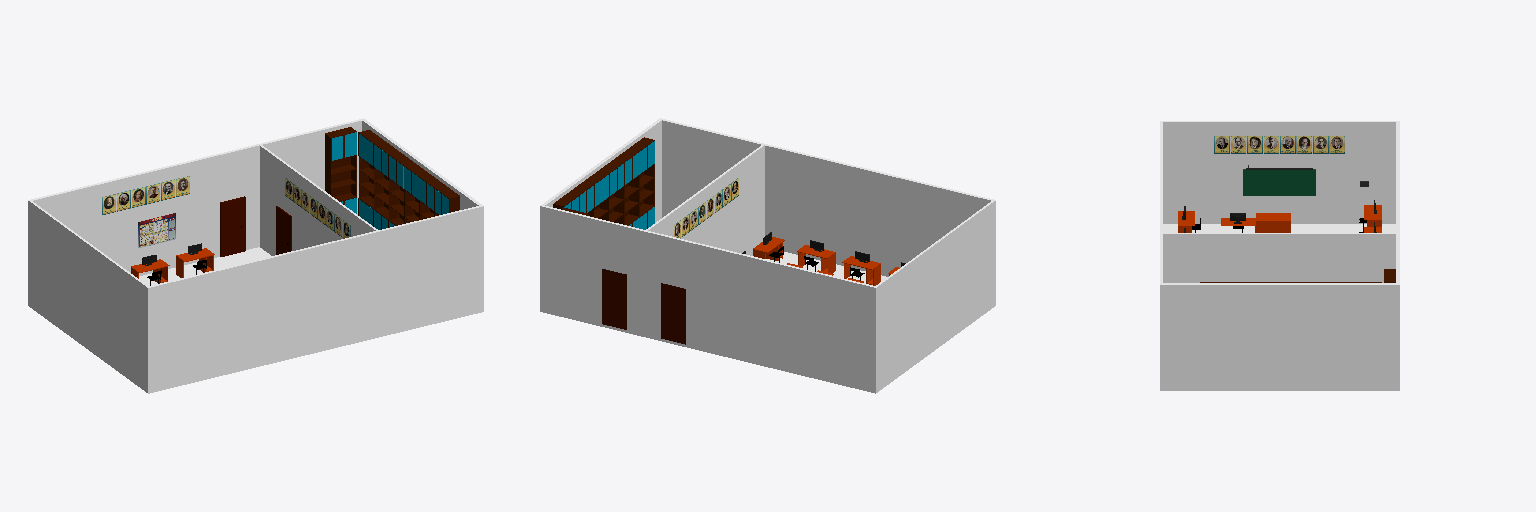
The picture shows the model from 3 angles: view 1: azimuth 30°, elevation 25°; view 2: azimuth 150°, elevation 25°; view 3: azimuth 270°, elevation 25°; orthographic projection.
Visible parts, largest first — view 1: Cube, Cube.010, Cube.018, Plane.003, Cube.009, Cube.006, Plane.002, Plane, Cube.011; view 2: Cube, Cube.010, Cube.008, Cube.009, Cube.007, Plane.002, Cube.003; view 3: Cube, Plane.001, Cube.013, Cube.014, Cube.006.
Part boxes in pixels (x1,y1,x2,y2): Cube: (28,118,483,393); Cube.010: (358,130,459,229); Cube.018: (325,127,356,213); Plane.003: (102,176,189,215); Cube.009: (220,196,245,256); Cube.006: (131,243,214,285); Plane.002: (285,178,350,238); Plane: (138,213,175,247); Cube.011: (276,206,291,254); Cube: (540,118,995,393); Cube.010: (553,137,654,229); Cube.008: (797,240,905,285); Cube.009: (661,283,685,344); Cube.007: (602,269,626,329); Plane.002: (674,178,738,238); Cube.003: (742,232,784,262); Cube: (1160,121,1399,390); Plane.001: (1214,136,1344,153); Cube.013: (1243,169,1315,195); Cube.014: (1256,213,1290,232); Cube.006: (1359,200,1381,232).
Size of the model in its own units: 13.3 by 4 by 8.25.
15 materials, 4 textured.